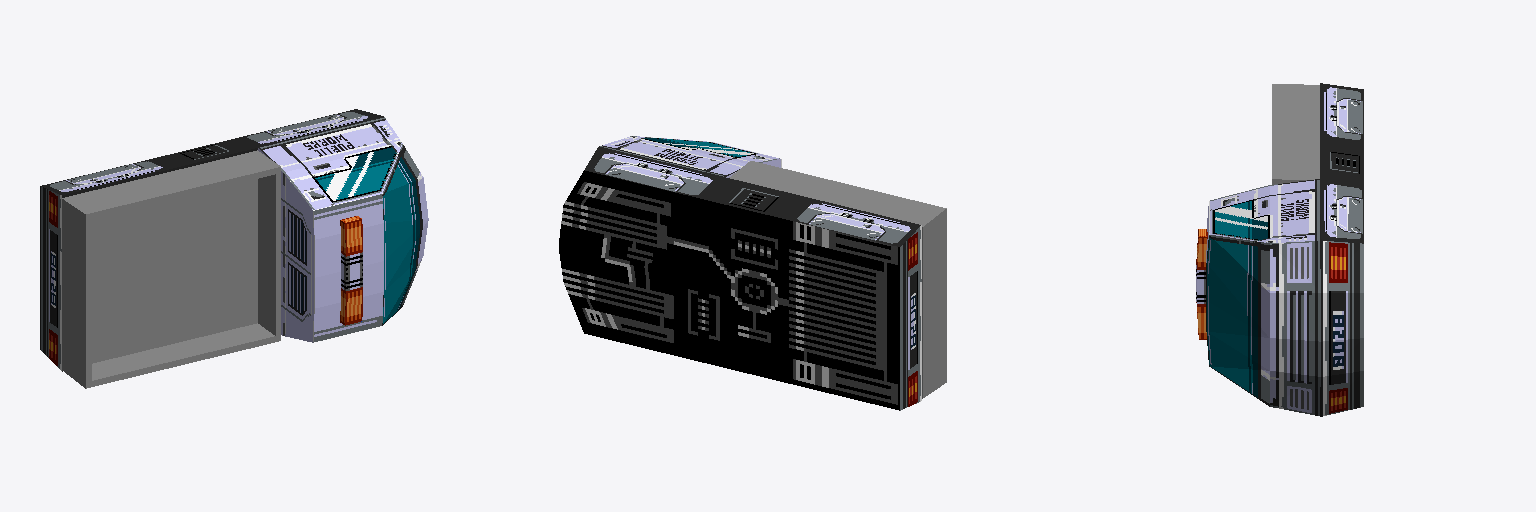
3 renders of one model, left to right at view 1: azimuth 30°, elevation 25°; view 2: azimuth 150°, elevation 25°; view 3: azimuth 270°, elevation 25°, orthographic.
Visible parts, largest first — view 1: truck_bed, public_works; view 2: public_works, truck_bed; view 3: public_works, truck_bed.
Boxes of the visible parts, x1,y1,x2,y2 form: truck_bed: [62, 150, 280, 388]; public_works: [40, 109, 428, 371]; public_works: [559, 136, 921, 410]; truck_bed: [729, 161, 946, 398]; public_works: [1196, 83, 1363, 416]; truck_bed: [1272, 84, 1319, 184].
Size of the model in its own units: 56.57 by 27.27 by 23.5.
Materials: 2 (1 with a texture image).